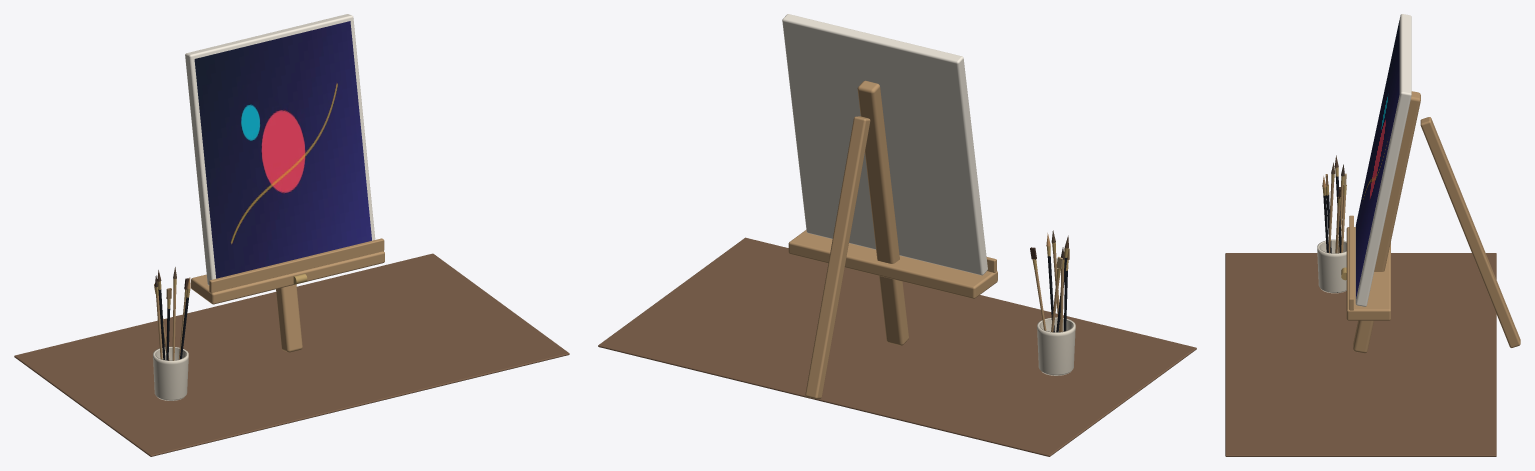
The model's file is atelier-artist-set-easel-oak.glb.
3 renders of one model, left to right at view 1: azimuth 30°, elevation 25°; view 2: azimuth 150°, elevation 25°; view 3: azimuth 270°, elevation 25°, orthographic. The views are drawn at different scales.
Visible parts, largest first — view 1: object 1, object 7, Artist canvas stretcher, object 4, Artist retaining lip, object 9, object 2; view 2: object 1, Artist canvas stretcher, object 2, object 3, object 4, object 9; view 3: object 1, Artist canvas stretcher, object 7, object 3, object 2, object 4, object 9, Artist retaining lip.
Part boxes in pixels (bbox=[...]): object 1: bbox=[14, 253, 569, 456]; object 7: bbox=[194, 21, 371, 278]; Artist canvas stretcher: bbox=[185, 14, 375, 285]; object 4: bbox=[191, 251, 384, 304]; Artist retaining lip: bbox=[209, 238, 384, 293]; object 9: bbox=[153, 346, 188, 400]; object 2: bbox=[276, 284, 302, 352]; object 1: bbox=[598, 237, 1196, 456]; Artist canvas stretcher: bbox=[782, 14, 987, 275]; object 2: bbox=[857, 80, 908, 345]; object 3: bbox=[805, 116, 870, 398]; object 4: bbox=[788, 230, 997, 298]; object 9: bbox=[1037, 317, 1075, 375]; object 1: bbox=[1225, 253, 1496, 456]; Artist canvas stretcher: bbox=[1355, 14, 1411, 306]; object 7: bbox=[1356, 20, 1399, 298]; object 3: bbox=[1420, 117, 1520, 347]; object 2: bbox=[1353, 91, 1420, 353]; object 4: bbox=[1346, 227, 1390, 320]; object 9: bbox=[1317, 239, 1346, 293]; Artist retaining lip: bbox=[1349, 215, 1353, 310].
Bounding box in the file's own units: 0.92 × 0.6408 × 0.5659.
14 materials, 1 textured.
